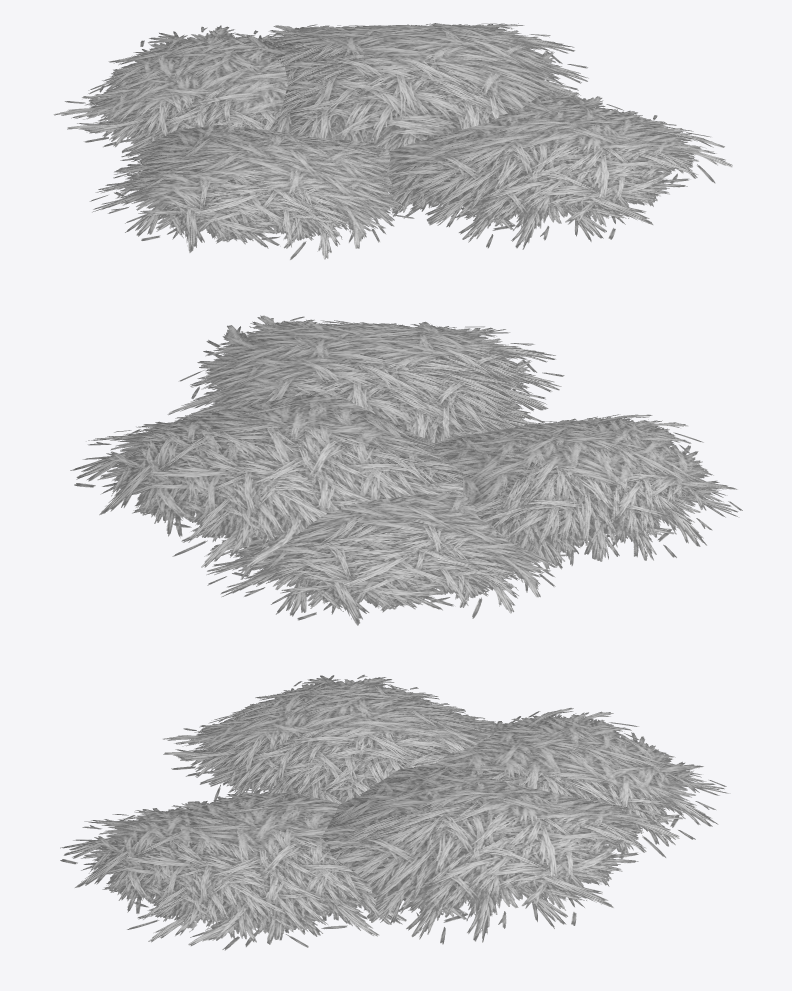
The model's file is Straws01.fbx.
The picture shows the model from 3 angles, top to bottom: view 1: azimuth 30°, elevation 25°; view 2: azimuth 150°, elevation 25°; view 3: azimuth 270°, elevation 25°; orthographic projection. The views are drawn at different scales.
Visible parts, largest first — view 1: Straws01_LOD0; view 2: Straws01_LOD0; view 3: Straws01_LOD0.
Part boxes in pixels (x1=…): Straws01_LOD0: x1=53, y1=23, x2=732, y2=260; Straws01_LOD0: x1=70, y1=315, x2=742, y2=625; Straws01_LOD0: x1=60, y1=674, x2=730, y2=950.
Size of what is drawn, in the model's own units: 1.86 by 0.1409 by 1.92.
